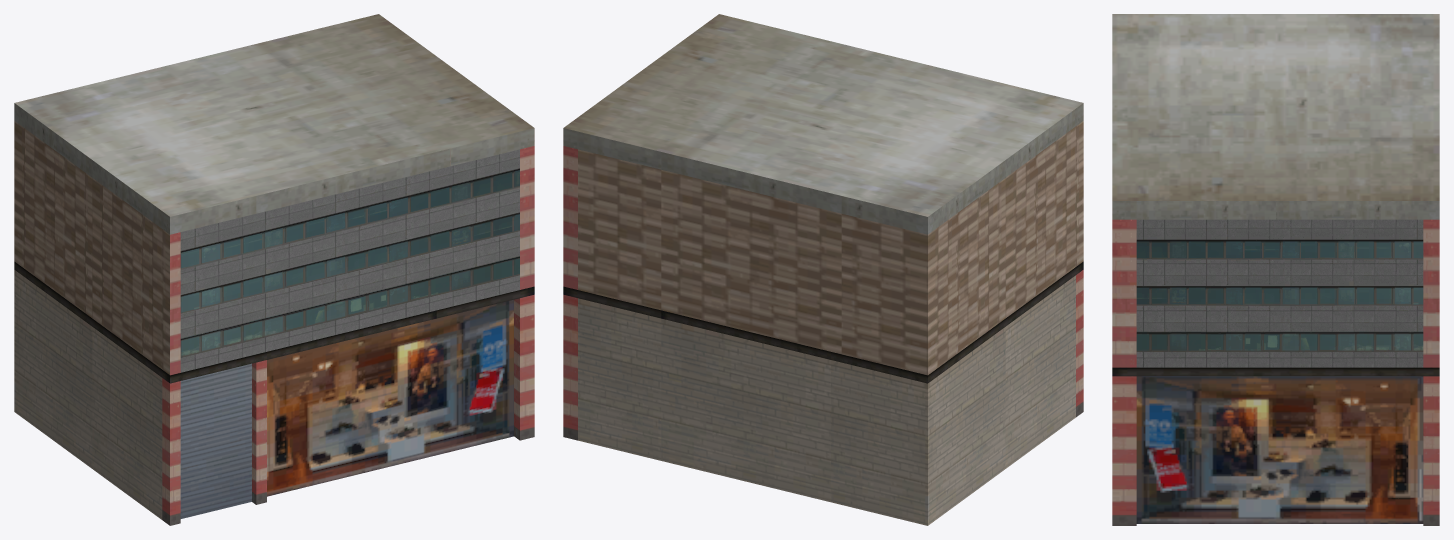
The model's file is Pizza_Delivery house32_5.fbx.
The picture shows the model from 3 angles, left to right: view 1: azimuth 30°, elevation 25°; view 2: azimuth 150°, elevation 25°; view 3: azimuth 270°, elevation 25°; orthographic projection. The views are drawn at different scales.
Visible parts, largest first — view 1: Pizza_Delivery:Pizza_Delivery:house32_5; view 2: Pizza_Delivery:Pizza_Delivery:house32_5; view 3: Pizza_Delivery:Pizza_Delivery:house32_5.
Part boxes in pixels (x1,y1,x2,y2): Pizza_Delivery:Pizza_Delivery:house32_5: [14, 14, 534, 525]; Pizza_Delivery:Pizza_Delivery:house32_5: [563, 14, 1083, 525]; Pizza_Delivery:Pizza_Delivery:house32_5: [1112, 14, 1439, 525].
Size of the model in its own units: 12.16 by 9.85 by 9.
